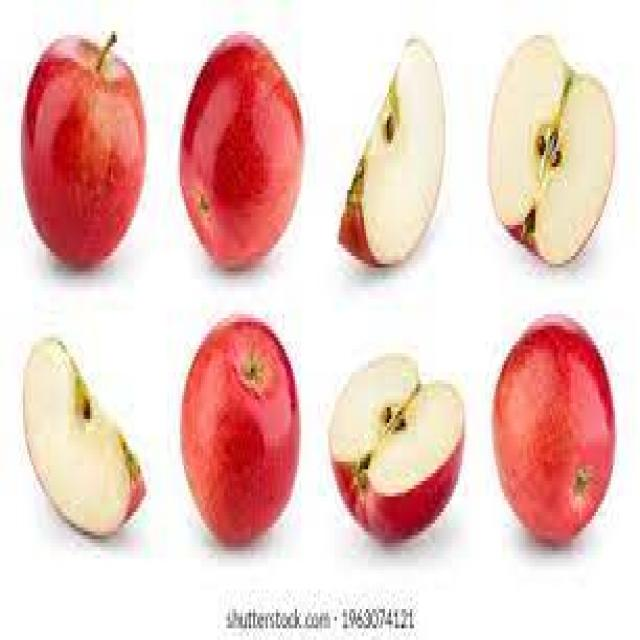Apple: (487, 32, 619, 266), (180, 29, 304, 268), (20, 34, 147, 266), (181, 318, 299, 548), (328, 354, 467, 546), (340, 34, 448, 278), (495, 318, 613, 539), (24, 338, 149, 544)
